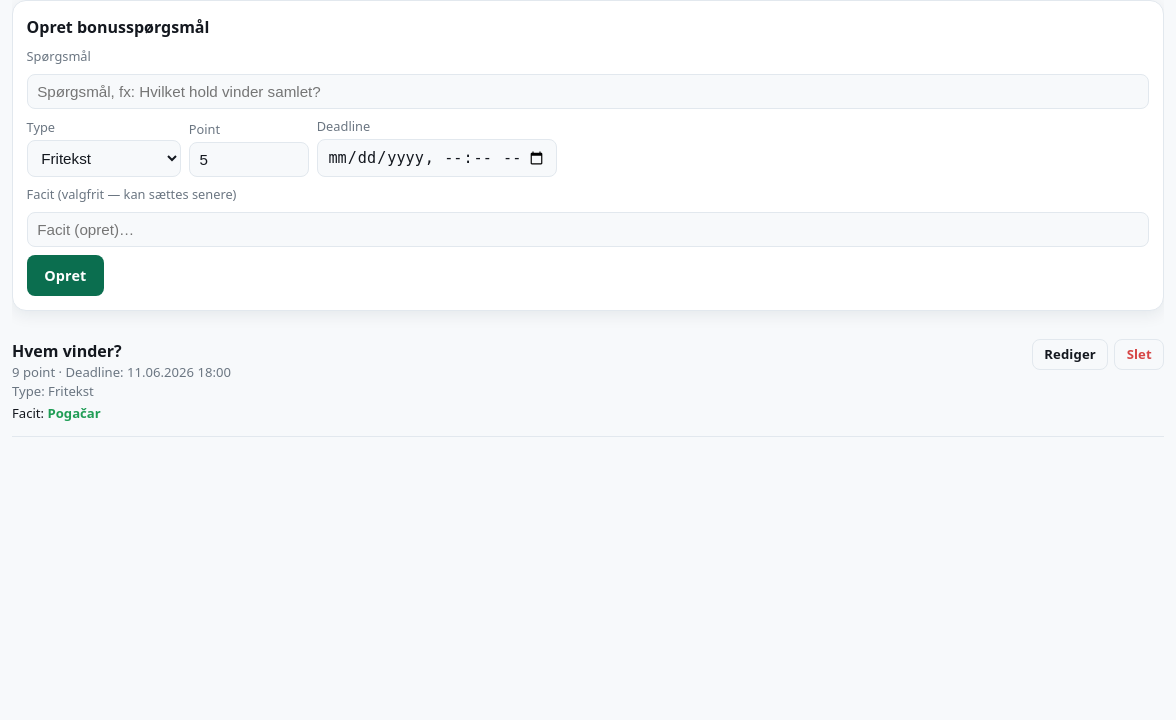
Test: BonusTab › forudfylder redigeringsformularen med spørgsmålets værdier
Click the button "Rediger": click(1070, 354) x1=1032 y1=339 x2=1108 y2=370
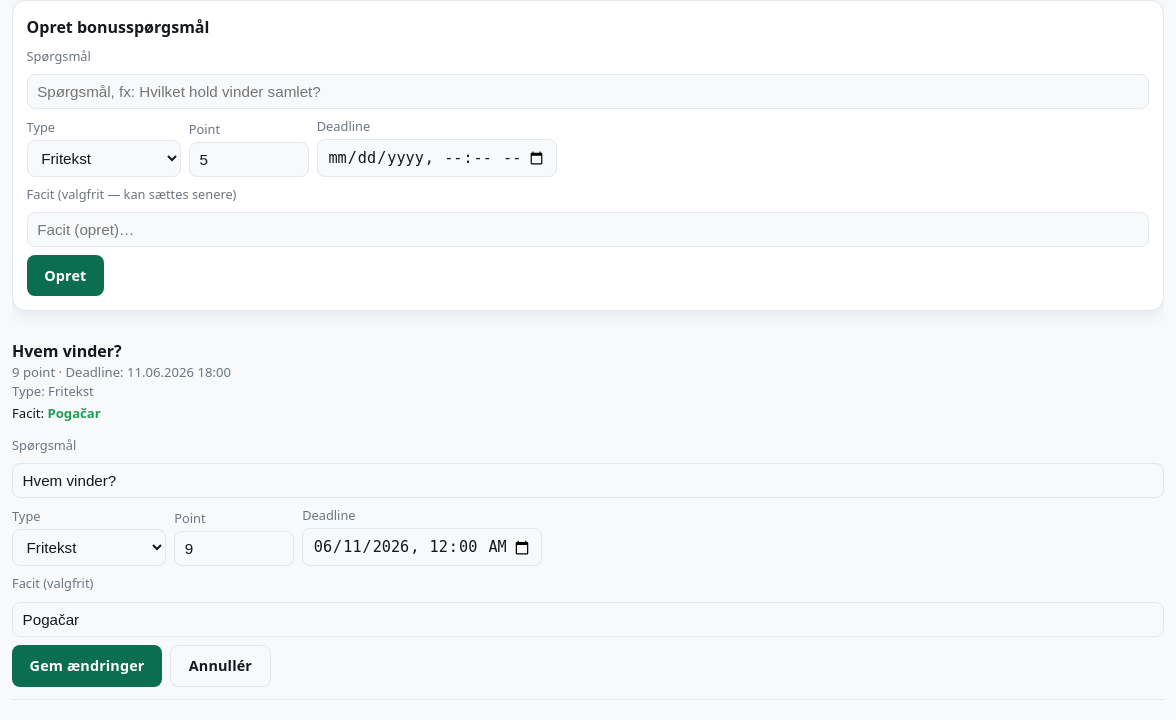
Expected: the field with test id "bonus-edit-text" holds "Hvem vinder?", x1=12 y1=463 x2=1164 y2=498
Expected: the number field with test id "bonus-edit-points" holds "9", x1=174 y1=531 x2=294 y2=566
Expected: the field with test id "bonus-edit-facit-text" holds "Pogačar", x1=12 y1=602 x2=1164 y2=636
